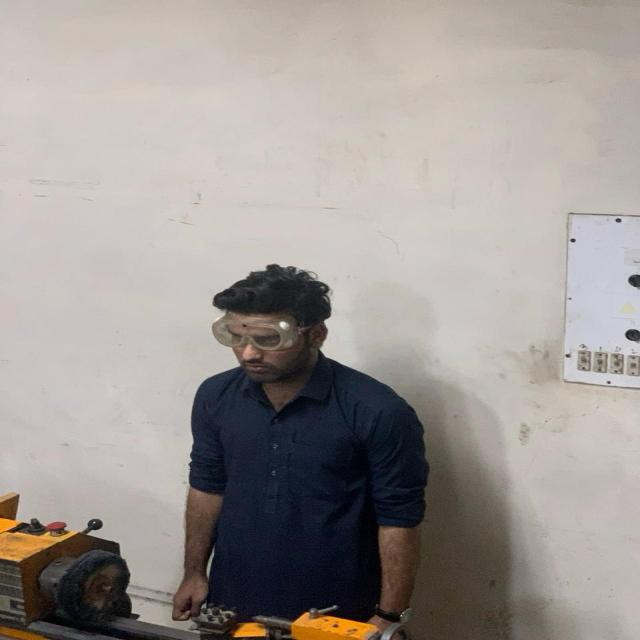googles: (205, 313, 300, 357)
